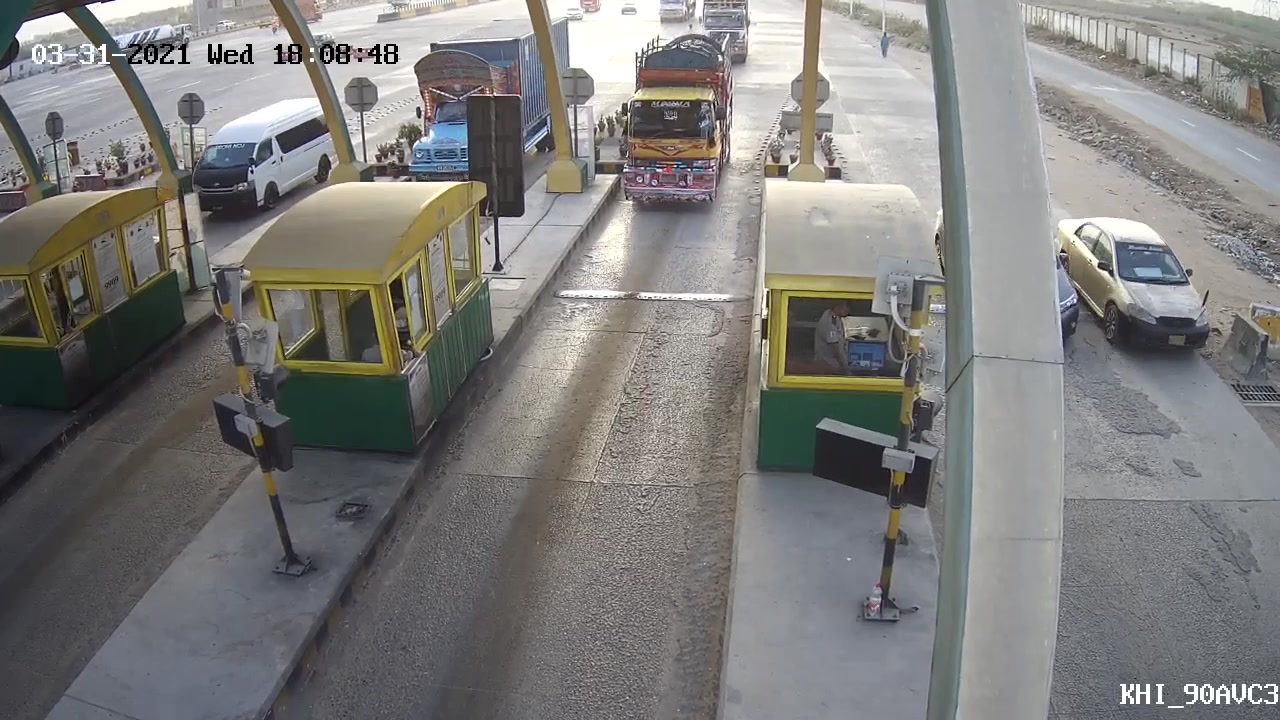F5: (614, 50, 738, 209)
